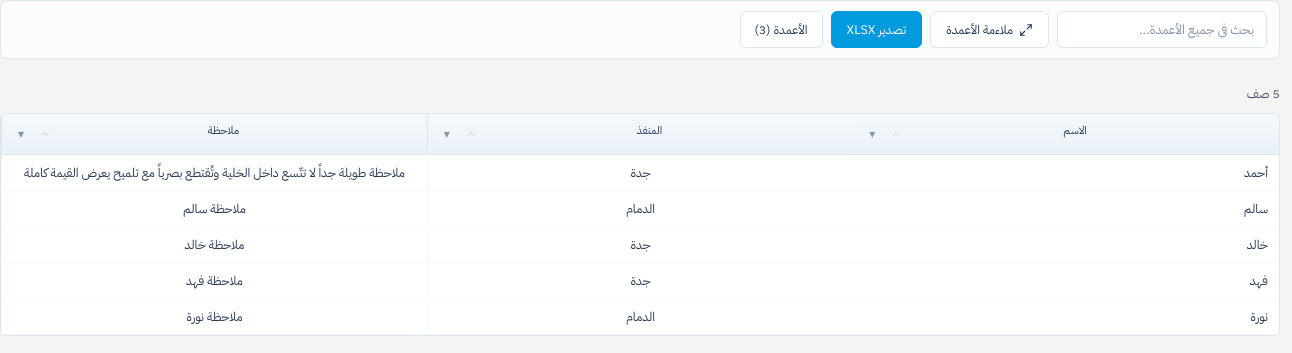
DataTable — B11 hardening › shows a 'no matching results' placeholder when search hides every row but data exists
Type "نص-غير-موجود-إطلاقا" into the field with placeholder "بحث في جميع الأعمدة...".
click(1162, 30); type("نص-غير-موجود-إطلاقا")  # box [1057, 11, 1267, 48]
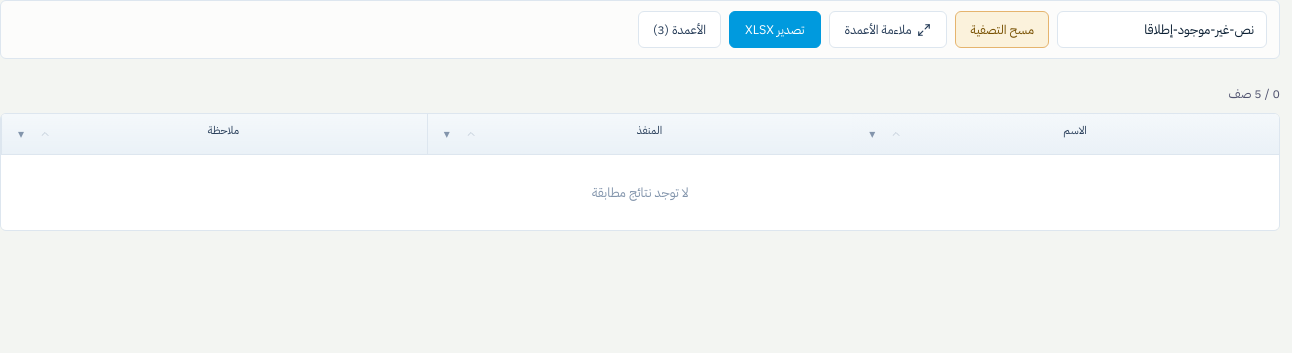
Check: the text "لا توجد نتائج مطابقة" is shown, box [2, 155, 1279, 230]
Check: the text "أحمد" is gone
